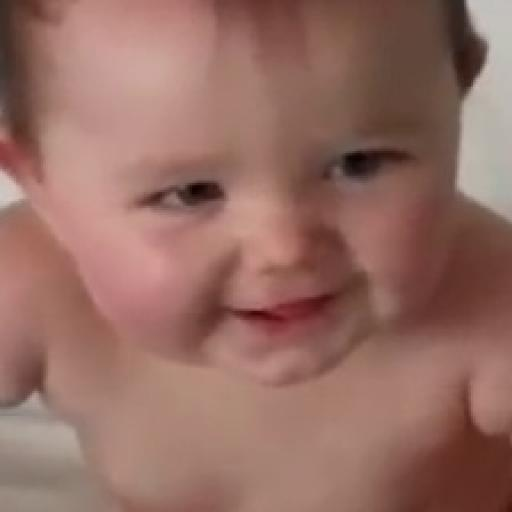Autism: (80, 0, 512, 455)
